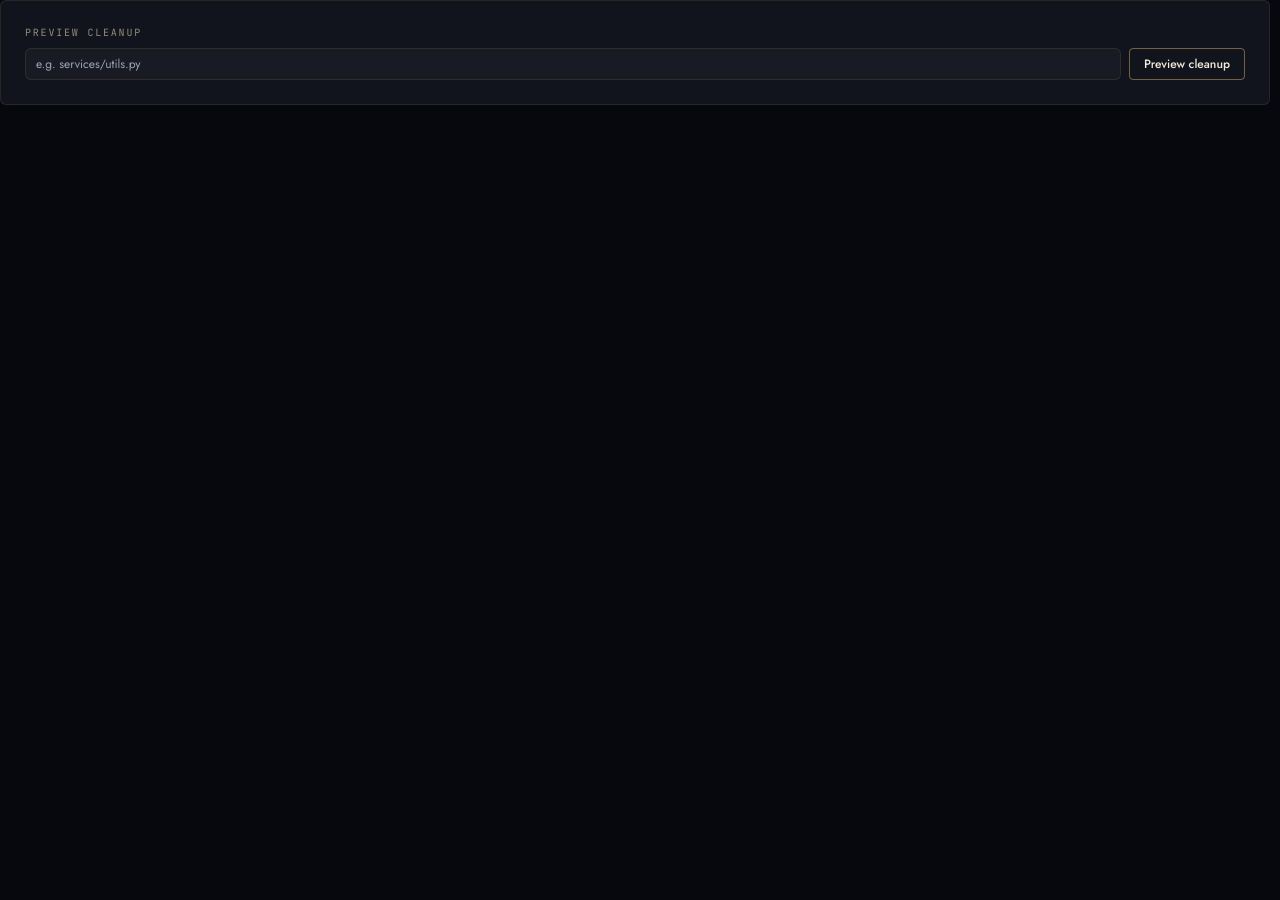
Test: Ticket F-UI · SimplifyFilePanel › Cancel on the confirm step aborts — never calls the apply endpoint
In the field with test id "simplify-file-path-input": [573, 64] box x1=25 y1=48 x2=1121 y2=80, type "a.py"
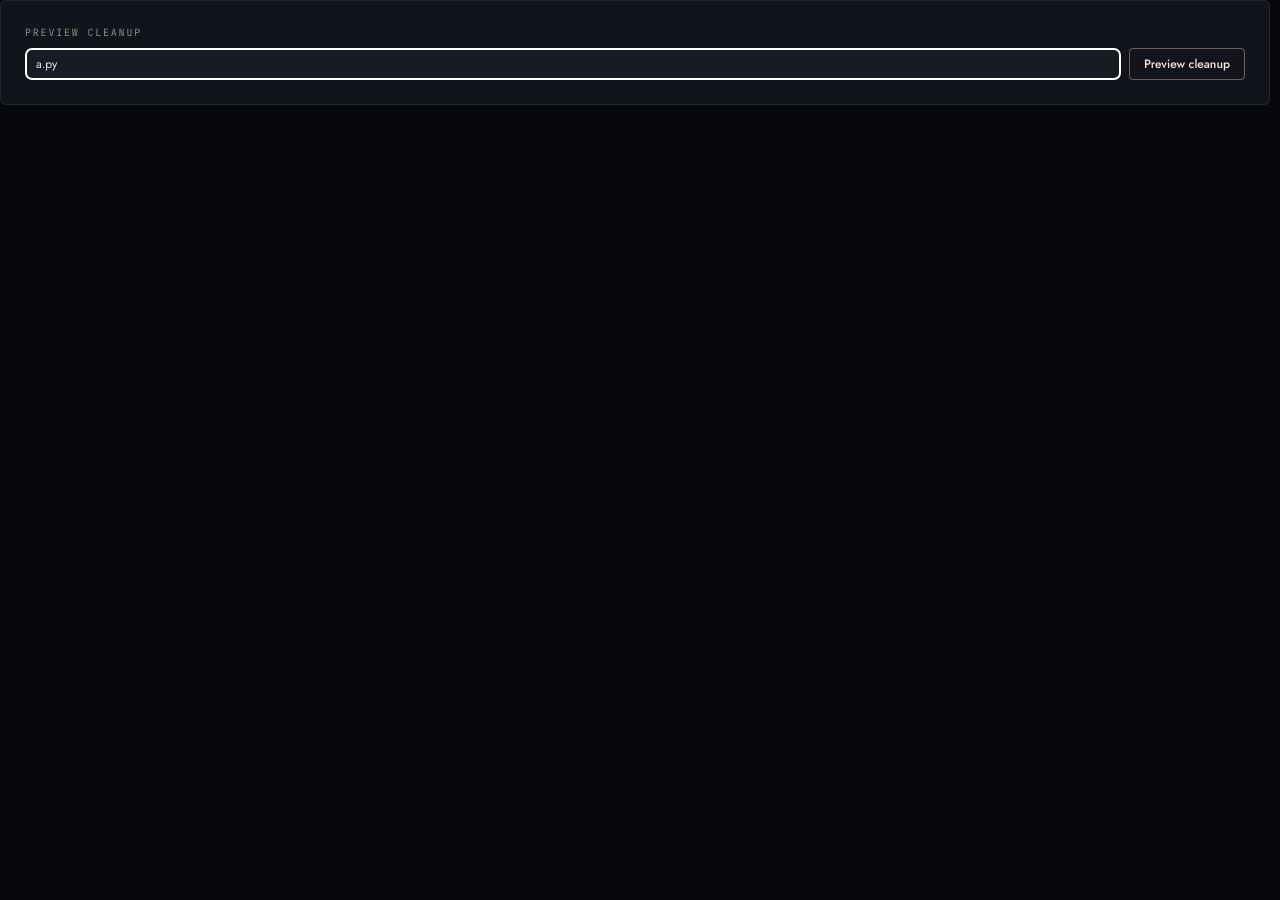
Click the button with test id "simplify-file-preview-btn": [1187, 64] box x1=1129 y1=48 x2=1245 y2=80
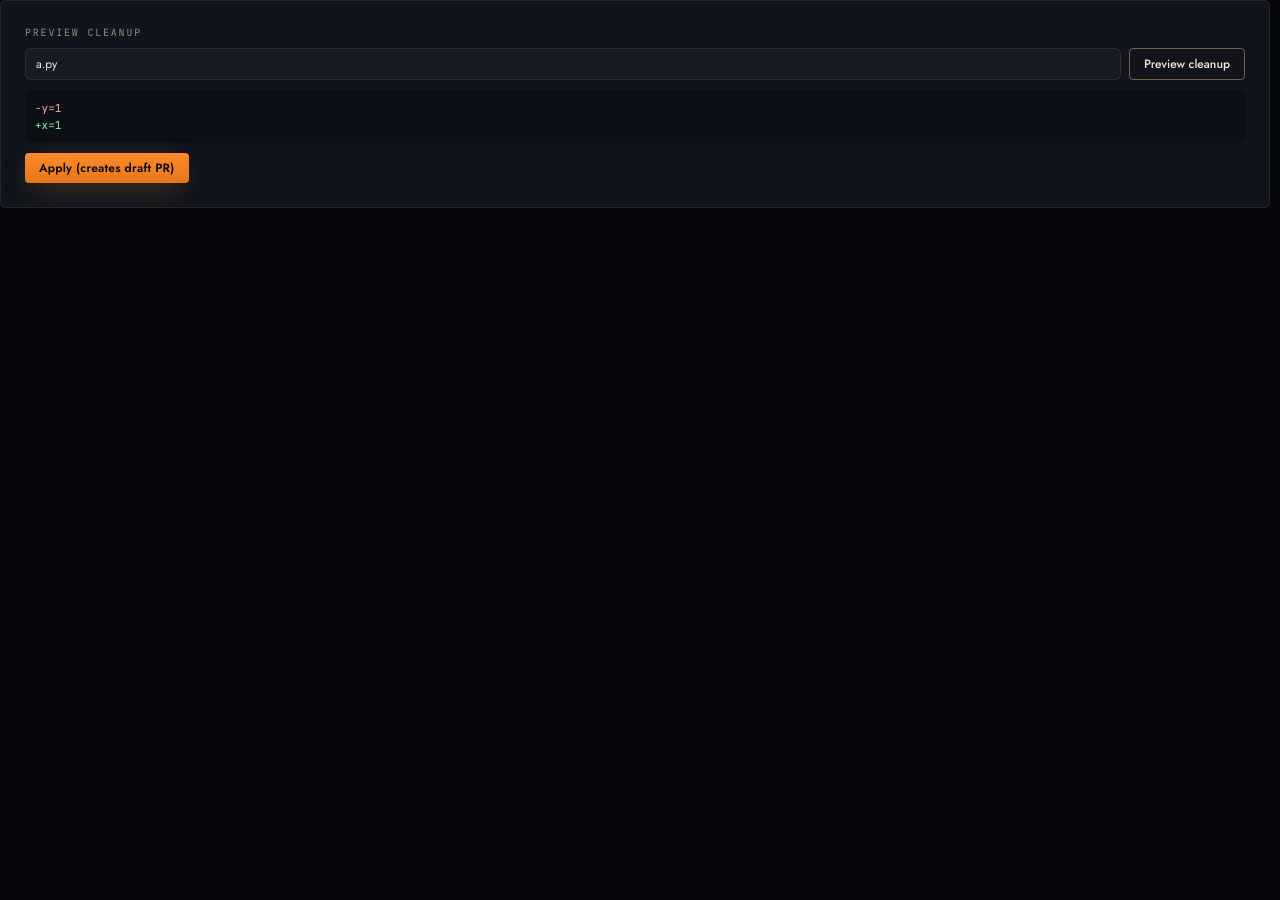
Result: the button with test id "simplify-apply-btn" is shown
Click the button with test id "simplify-apply-btn": [107, 168] box x1=25 y1=153 x2=188 y2=183
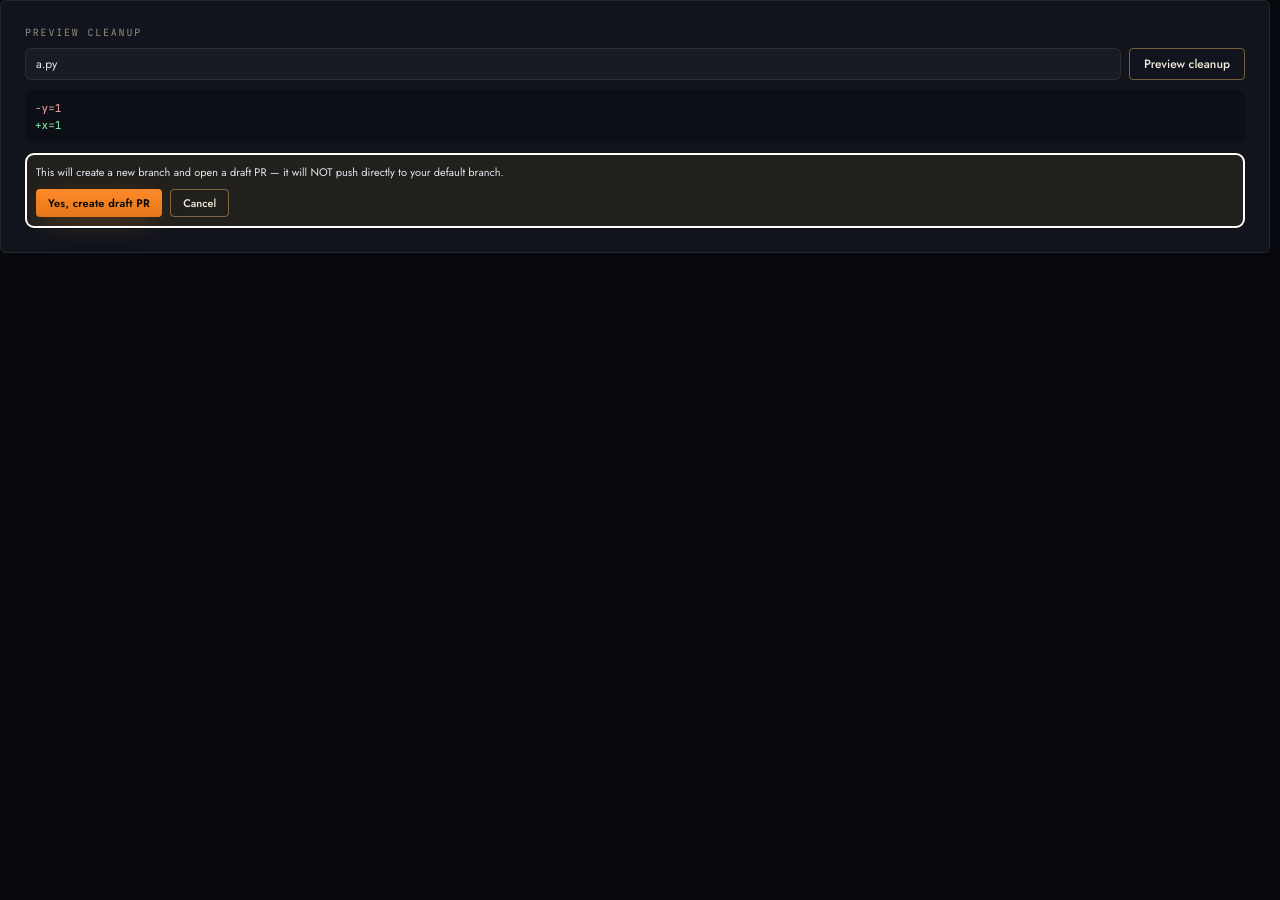
Click the button with test id "simplify-apply-confirm-cancel": [200, 203] box x1=170 y1=188 x2=229 y2=217
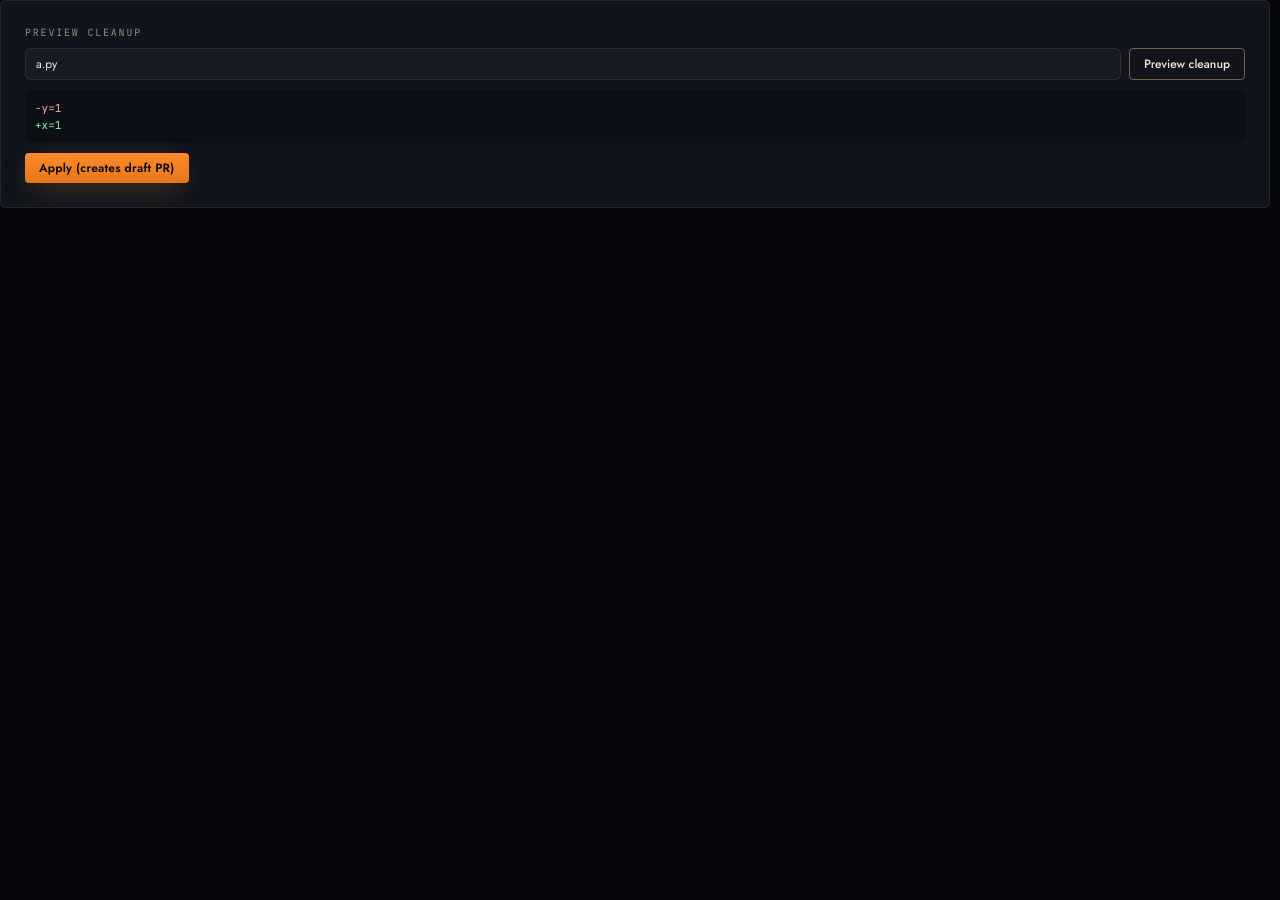
Result: the dialog with test id "simplify-apply-confirm" is gone
